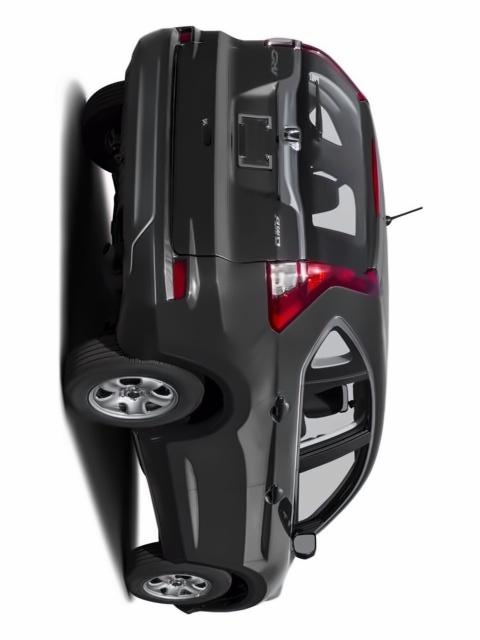Car boot: (178, 13, 310, 275)
Driver-s door - -F-R-: (152, 422, 384, 555)
Fender - -F-R-: (126, 529, 323, 620)
Passenger-s door - -R-R-: (130, 339, 386, 484), (104, 244, 286, 440)
Rear bumper: (108, 22, 185, 364)
Rear light - -R-: (256, 225, 386, 349)
Side bumper - -R-: (133, 431, 191, 570)
Side mirror - -R-: (276, 507, 334, 593)
